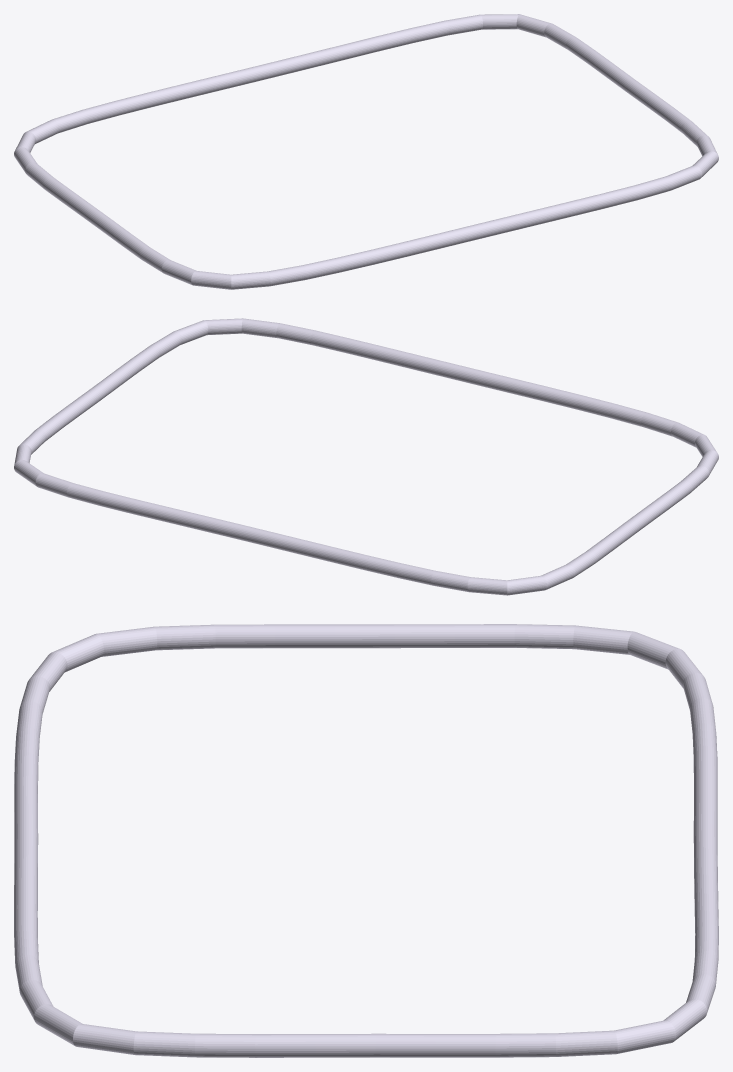
Rendered from cuerda3.obj.
3 views of the same model, one above another, from view 1: azimuth 30°, elevation 25°; view 2: azimuth 150°, elevation 25°; view 3: azimuth 270°, elevation 25° (orthographic). The views are drawn at different scales.
Parts seen in each view (by area): view 1: cuerda3_Mesh; view 2: cuerda3_Mesh; view 3: cuerda3_Mesh.
Part boxes in pixels (<box>): cuerda3_Mesh: <box>14,14,718,289</box>; cuerda3_Mesh: <box>14,318,718,595</box>; cuerda3_Mesh: <box>14,624,718,1057</box>.
Size of the model in its own units: 6.93 by 0.166 by 4.91.
Materials: 1 (1 with a texture image).
